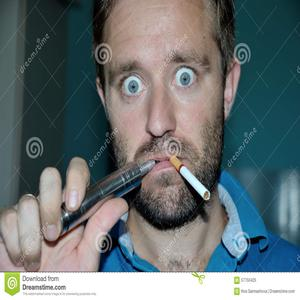cigarette: (172, 156, 212, 204)
